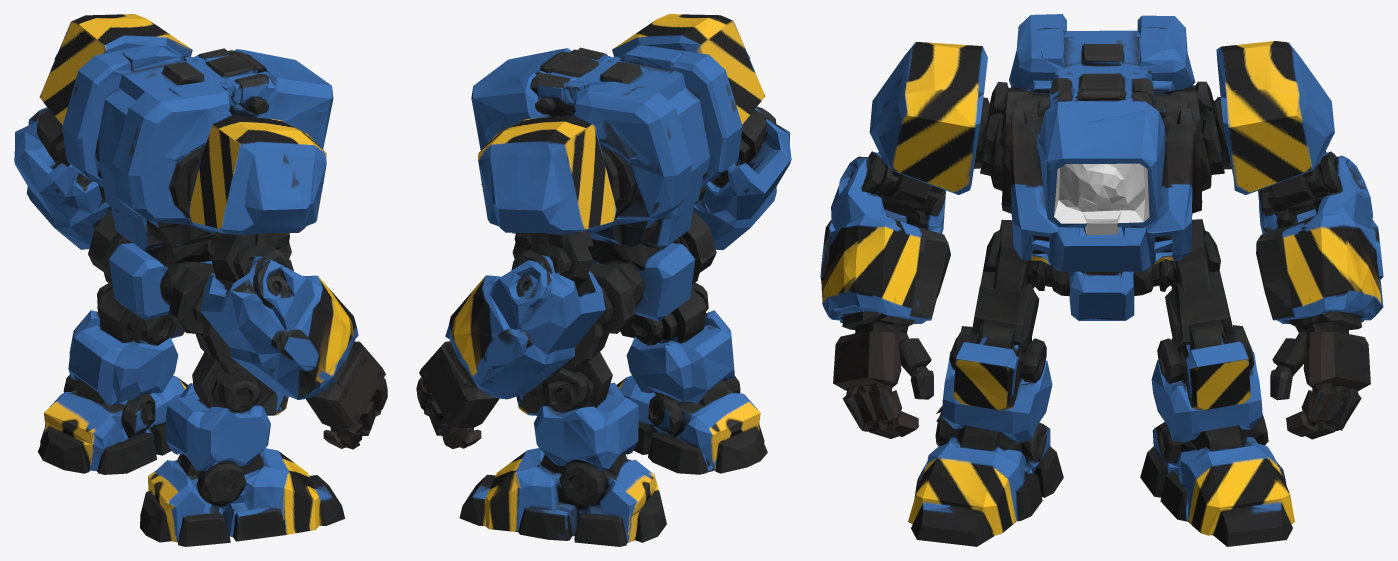
File: heavy_meshy_parts.fbx
The picture shows the model from 3 angles, left to right: view 1: azimuth 30°, elevation 25°; view 2: azimuth 150°, elevation 25°; view 3: azimuth 270°, elevation 25°; orthographic projection. The views are drawn at different scales.
Visible parts, largest first — view 1: HeadTorso, UpperArm_R, ShinFoot_R, ShinFoot_L, UpperArm_L, Thigh_R, ForearmHand_R, Pelvis, Thigh_L; view 2: HeadTorso, UpperArm_L, ShinFoot_L, ShinFoot_R, UpperArm_R, Thigh_L, ForearmHand_L, Pelvis, Thigh_R; view 3: HeadTorso, UpperArm_L, UpperArm_R, ShinFoot_R, ShinFoot_L, Thigh_R, Thigh_L, ForearmHand_R, ForearmHand_L, Pelvis.
Part boxes in pixels (box(x1,y1,x2,y2)): HeadTorso: box(62, 35, 333, 253); UpperArm_R: box(188, 115, 358, 399); ShinFoot_R: box(140, 388, 344, 546); ShinFoot_L: box(38, 319, 187, 474); UpperArm_L: box(14, 14, 192, 249); Thigh_R: box(169, 263, 288, 423); ForearmHand_R: box(274, 341, 387, 449); Pelvis: box(109, 236, 215, 320); Thigh_L: box(83, 210, 184, 351); HeadTorso: box(471, 35, 742, 253); UpperArm_L: box(445, 115, 616, 399); ShinFoot_L: box(459, 388, 666, 546); ShinFoot_R: box(616, 319, 767, 474); UpperArm_R: box(612, 14, 791, 249); Thigh_L: box(516, 263, 635, 423); ForearmHand_L: box(416, 341, 499, 448); Pelvis: box(589, 236, 695, 321); Thigh_R: box(620, 210, 721, 351); HeadTorso: box(974, 14, 1230, 271); UpperArm_L: box(1221, 41, 1383, 334); UpperArm_R: box(820, 41, 982, 325); ShinFoot_R: box(908, 365, 1063, 546); ShinFoot_L: box(1140, 365, 1294, 546); Thigh_R: box(944, 219, 1047, 411); Thigh_L: box(1156, 219, 1260, 410); ForearmHand_R: box(833, 322, 933, 438); ForearmHand_L: box(1270, 322, 1370, 439); Pelvis: box(1037, 259, 1173, 320).
Bounding box in the file's own units: 138 × 248 × 278.
2 materials, 1 textured.
